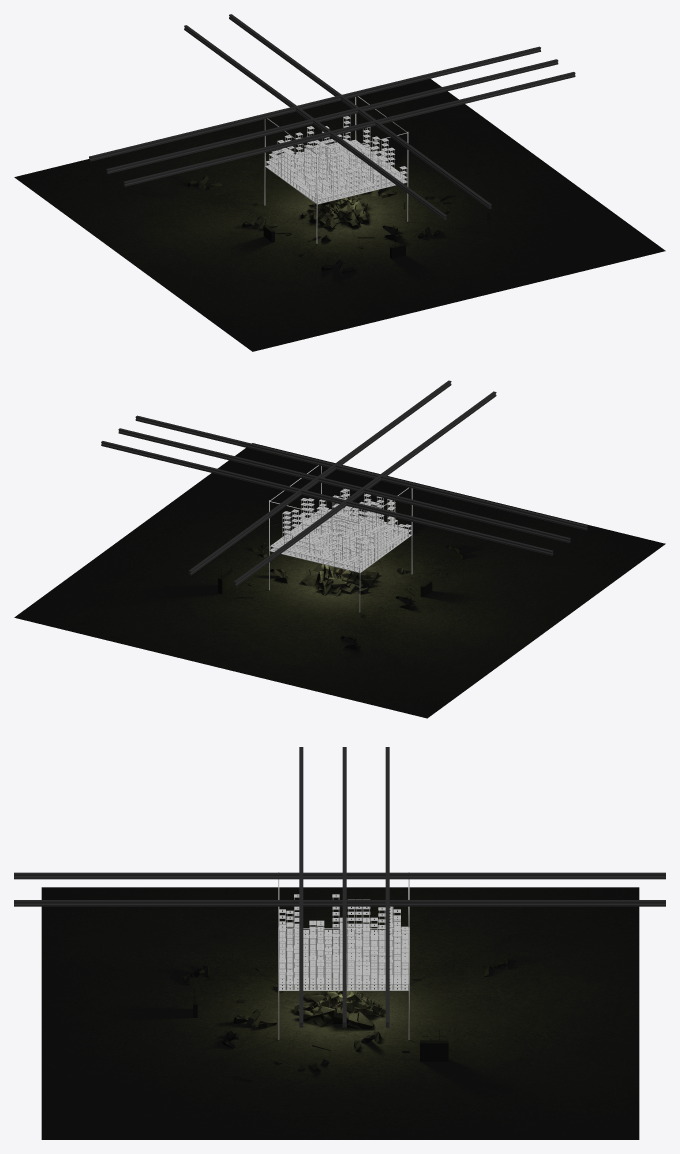
Rendered from city.gltf.
3 renders of one model, top to bottom at view 1: azimuth 30°, elevation 25°; view 2: azimuth 150°, elevation 25°; view 3: azimuth 270°, elevation 25°, orthographic. The views are drawn at different scales.
Parts seen in each view (by area): view 1: SOL, Cube, STRUCTURE, Cube.001, Cylinder.004, DEBRIS; view 2: SOL, Cube, STRUCTURE, Cube.001, Cylinder.004, DEBRIS; view 3: SOL, STRUCTURE, Cube.001, Cube, Cylinder.004, DEBRIS.
Part boxes in pixels (x1,y1,x2,y2): SOL: (14, 79, 665, 351); Cube: (89, 46, 575, 186); STRUCTURE: (264, 96, 408, 243); Cube.001: (184, 14, 491, 219); Cylinder.004: (187, 140, 486, 274); DEBRIS: (301, 193, 369, 229); SOL: (14, 443, 665, 718); Cube: (101, 415, 587, 555); STRUCTURE: (269, 465, 412, 612); Cube.001: (188, 380, 496, 586); Cylinder.004: (218, 521, 465, 650); DEBRIS: (301, 563, 378, 596); SOL: (41, 887, 639, 1139); STRUCTURE: (278, 872, 409, 1039); Cube.001: (14, 872, 665, 906); Cube: (299, 747, 389, 1027); Cylinder.004: (183, 951, 509, 1081); DEBRIS: (294, 978, 385, 1029).
Bounding box in the file's own units: 178 × 42.15 × 178.
6 materials, 3 textured.
